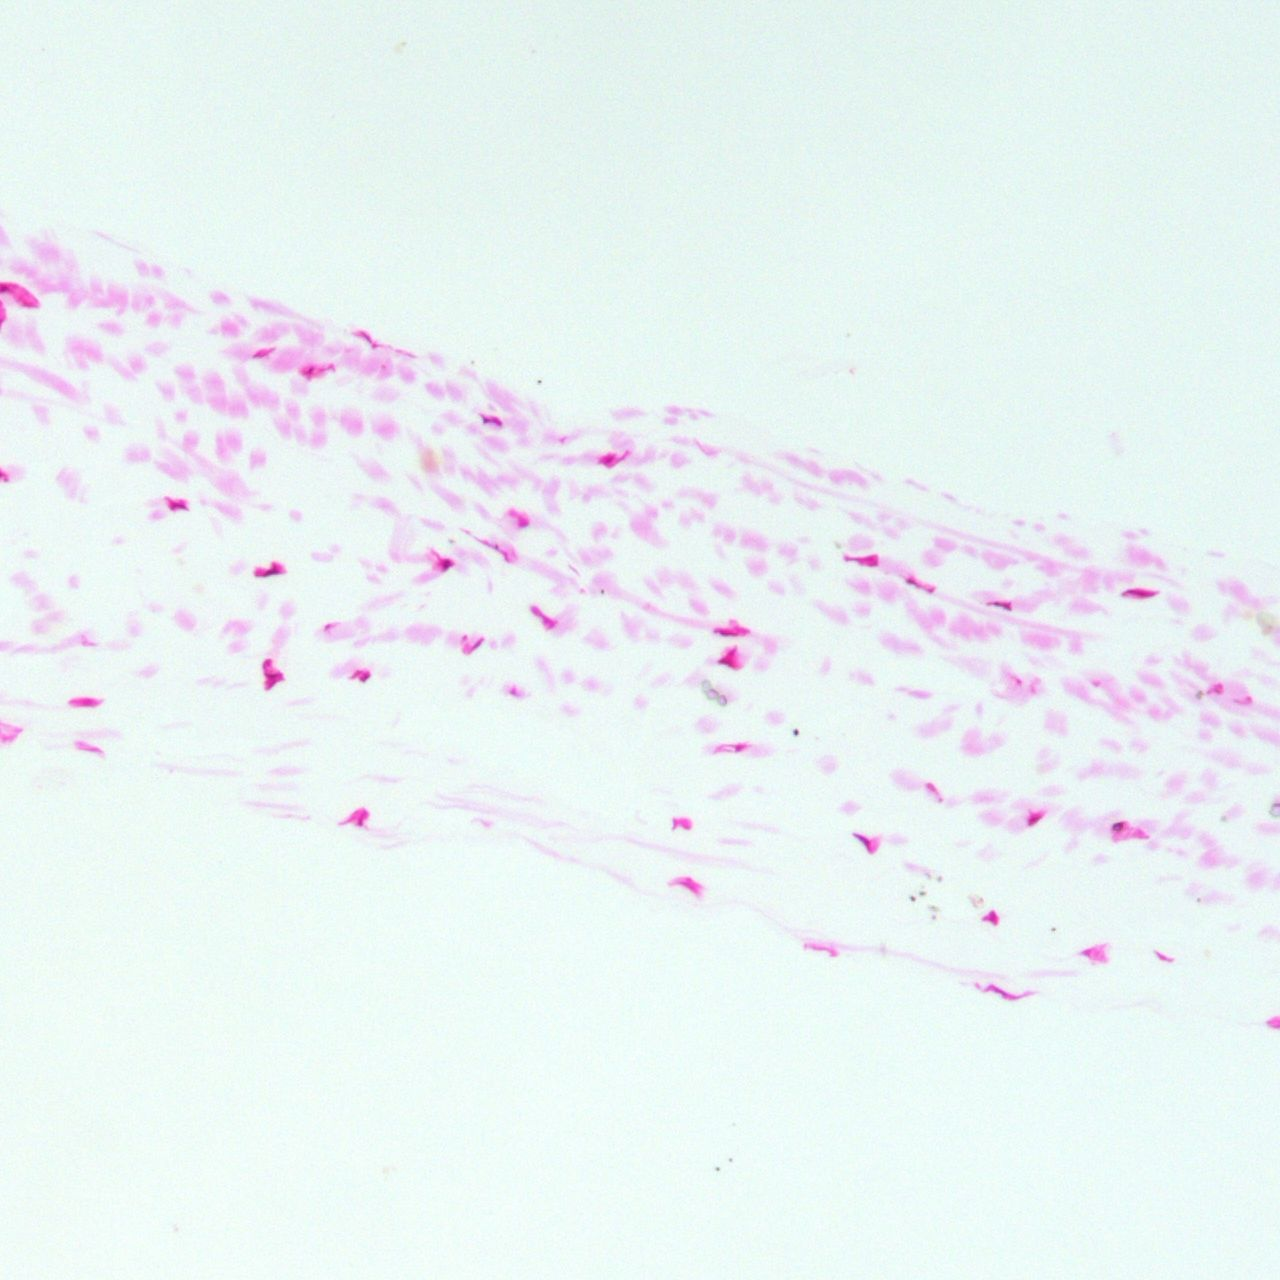dust: (697, 680, 730, 708), (1255, 610, 1276, 632), (1268, 802, 1279, 818), (1194, 689, 1205, 700), (791, 728, 799, 736), (714, 1165, 721, 1173), (917, 890, 926, 896), (536, 377, 543, 384), (493, 544, 499, 552), (1220, 815, 1226, 823), (910, 896, 915, 903), (937, 874, 942, 881), (1194, 896, 1201, 901), (727, 1156, 733, 1163), (448, 538, 456, 543), (599, 588, 605, 594), (469, 359, 474, 365), (1051, 926, 1056, 932), (930, 905, 937, 908), (931, 915, 935, 920)
nucleus-FG: (463, 529, 513, 560), (980, 981, 1017, 1002), (527, 605, 557, 629), (719, 645, 744, 670), (905, 576, 937, 595), (805, 940, 839, 958), (853, 829, 874, 855), (844, 553, 878, 567), (673, 878, 701, 894), (253, 341, 275, 361), (252, 565, 286, 578), (465, 635, 484, 658), (1122, 587, 1156, 598), (263, 674, 282, 692), (715, 742, 747, 753), (1153, 949, 1175, 964), (69, 697, 100, 707), (74, 743, 103, 753), (354, 808, 367, 828), (600, 451, 617, 467), (1027, 811, 1043, 826), (482, 415, 504, 425), (989, 599, 1012, 610), (669, 818, 690, 829), (437, 558, 452, 572), (360, 331, 374, 346), (715, 629, 741, 638), (165, 499, 188, 509), (302, 365, 325, 374), (1207, 683, 1224, 695), (517, 515, 529, 527), (927, 781, 938, 795), (356, 672, 372, 681), (261, 670, 281, 678), (1112, 821, 1124, 832), (21, 300, 38, 308), (988, 911, 998, 925), (263, 658, 272, 669), (509, 685, 517, 696), (459, 633, 468, 644), (324, 622, 332, 631)
